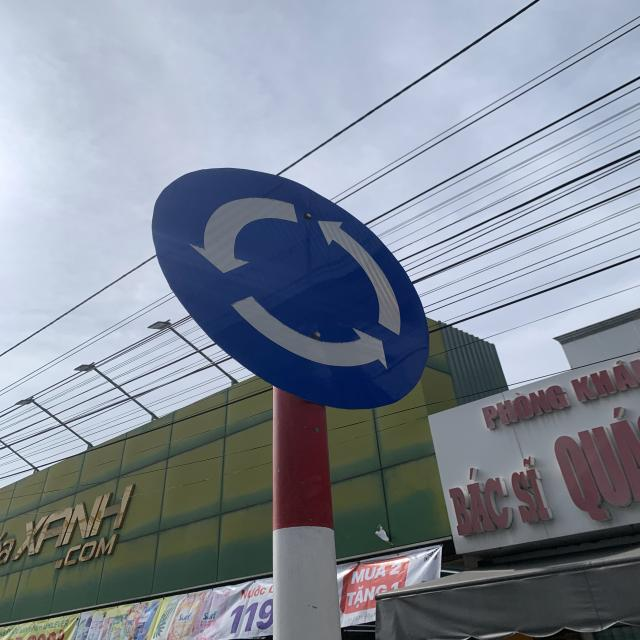Xe_Bus: (151, 166, 429, 410)
